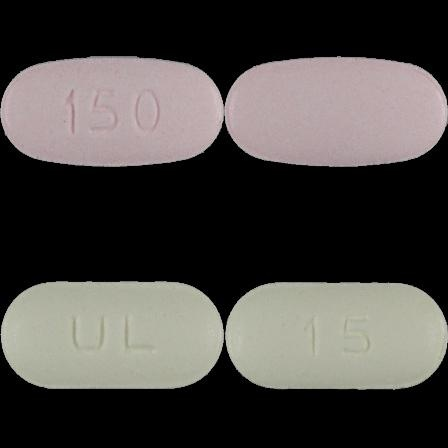61786-954: (0, 0, 224, 224)
